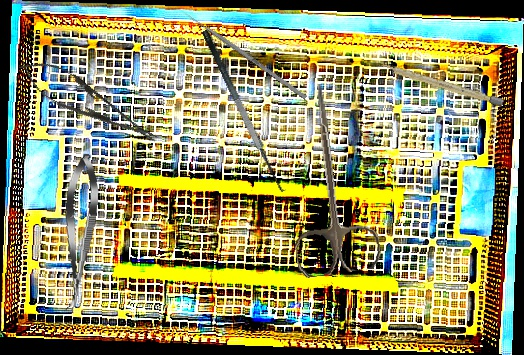Iris Scissors: (273, 79, 383, 279)
Micro Scissor: (57, 152, 102, 313)
Needle Holder: (11, 48, 166, 157)
Pusher: (178, 7, 308, 100)
Scalpel Handle: (376, 61, 505, 107)
Spatula Surgical: (199, 22, 296, 197)
